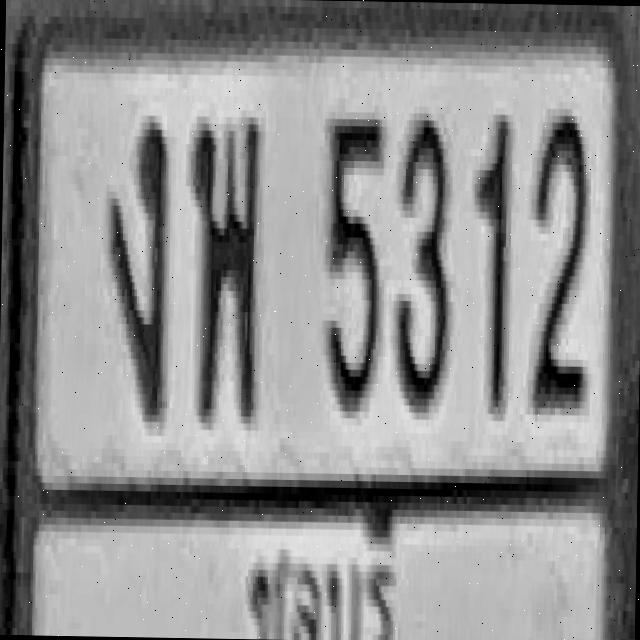1: (472, 110, 512, 410)
16NgorNgu: (104, 115, 170, 415)
2: (528, 108, 588, 408)
3: (392, 113, 452, 406)
39PhorPan: (187, 113, 260, 420)
5: (322, 111, 384, 412)
Chonburi: (238, 490, 397, 640)
